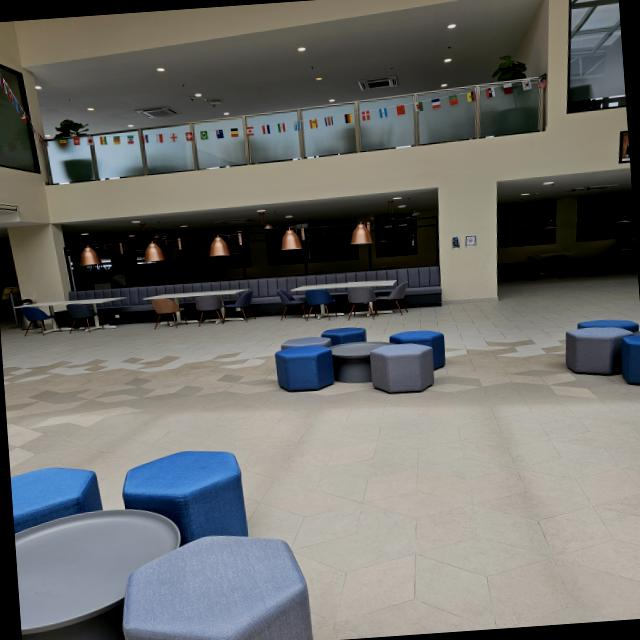footpath: (296, 383, 640, 640)
obstacle: (7, 423, 305, 640), (272, 312, 445, 403), (547, 313, 640, 386)
